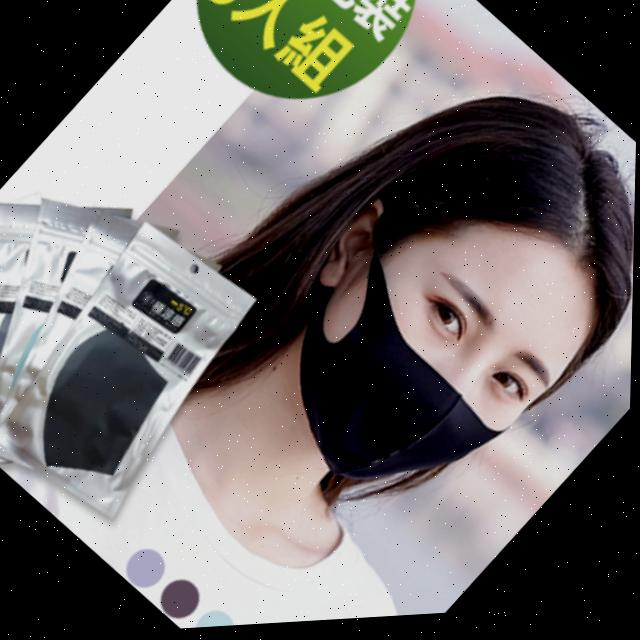Mask: (212, 183, 575, 554)
